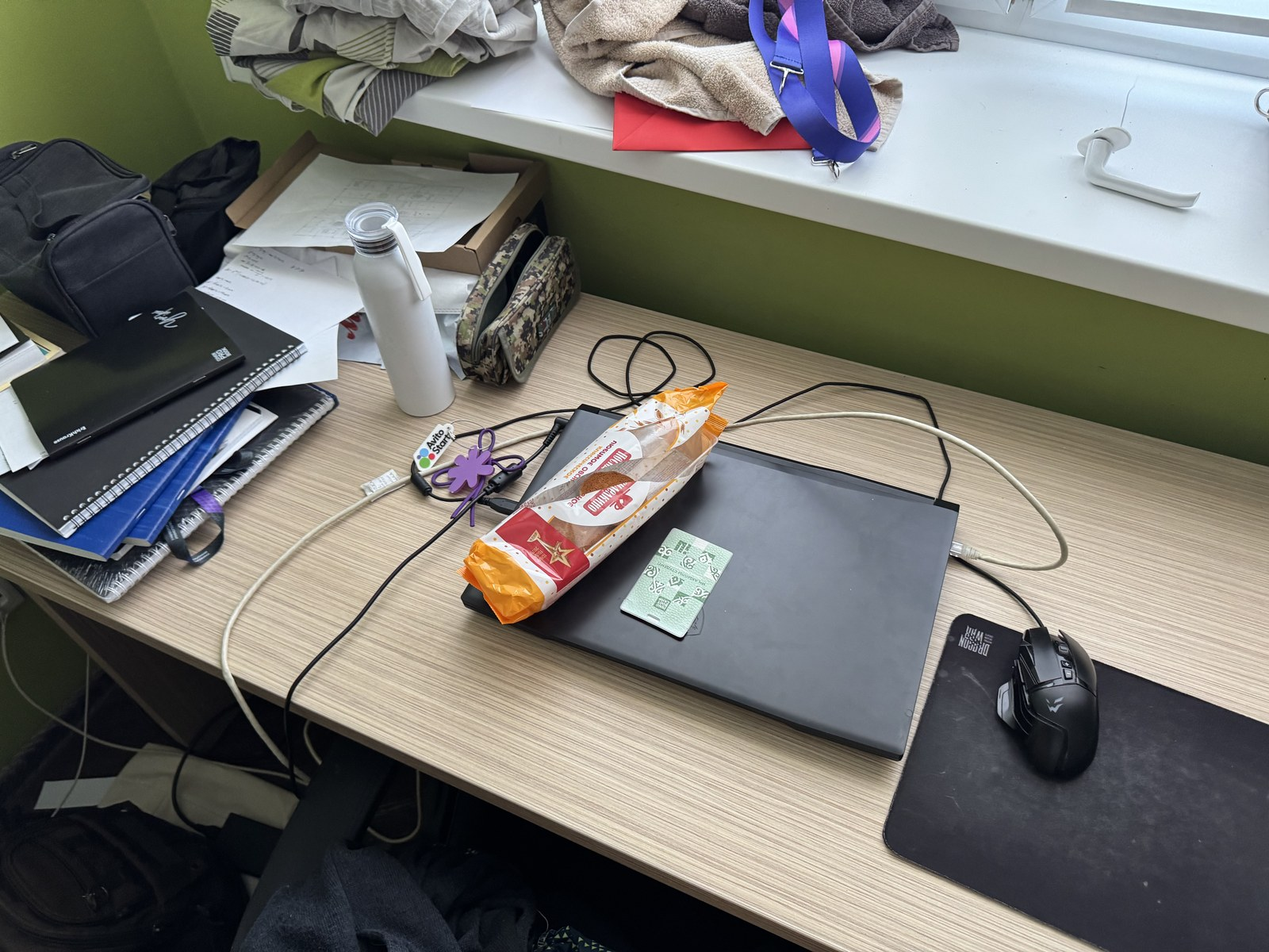cell phone: (411, 422, 456, 495), (413, 422, 455, 471)
laptop: (458, 403, 960, 761)
